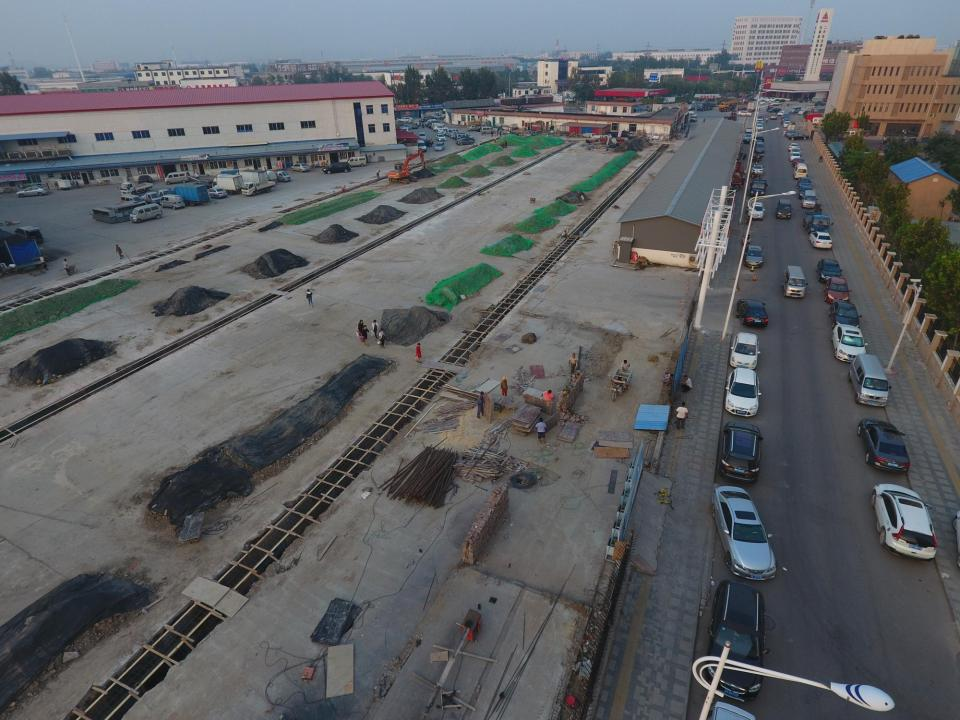car: (705, 580, 772, 701), (711, 486, 777, 581), (870, 483, 938, 564), (856, 418, 910, 476), (716, 420, 764, 485), (725, 367, 762, 417), (830, 323, 869, 364), (729, 332, 760, 370), (828, 300, 863, 330), (736, 298, 768, 328), (823, 276, 852, 304), (816, 258, 843, 284), (808, 231, 833, 249), (15, 186, 48, 198), (322, 161, 352, 174), (747, 201, 765, 221), (202, 187, 228, 199), (796, 185, 813, 201), (192, 179, 216, 189), (742, 134, 765, 144), (797, 177, 812, 191), (137, 175, 153, 185), (290, 164, 310, 172), (788, 133, 809, 140), (751, 164, 765, 174), (455, 138, 474, 145), (792, 157, 805, 167), (738, 109, 752, 118), (790, 151, 801, 162), (788, 142, 800, 152), (434, 142, 445, 152), (790, 146, 801, 156), (434, 133, 446, 142), (468, 124, 480, 132), (767, 106, 782, 112), (785, 129, 795, 138), (798, 109, 810, 116), (419, 131, 426, 142), (755, 123, 764, 131), (744, 126, 753, 134), (777, 110, 788, 116), (783, 120, 791, 128), (738, 105, 748, 111), (815, 100, 825, 106), (770, 112, 777, 120), (756, 114, 764, 121), (744, 133, 752, 140), (686, 105, 695, 111), (756, 118, 763, 125), (782, 118, 790, 124), (782, 114, 788, 121), (782, 112, 788, 118)
truck: (168, 184, 210, 207), (801, 210, 833, 235), (240, 179, 278, 197), (212, 174, 244, 195), (116, 180, 153, 196), (234, 169, 268, 186), (750, 178, 768, 196), (268, 169, 291, 183), (140, 191, 162, 204), (151, 188, 173, 200), (696, 102, 716, 112), (746, 100, 761, 112), (787, 121, 796, 132)
van: (848, 353, 892, 407), (782, 265, 808, 299), (128, 202, 163, 224), (744, 245, 765, 268), (159, 194, 186, 210), (775, 198, 794, 220), (164, 170, 190, 186), (120, 194, 147, 208), (801, 190, 819, 209), (254, 169, 277, 183), (793, 162, 808, 180), (346, 156, 366, 168), (414, 139, 427, 153), (754, 139, 765, 155), (478, 126, 496, 134), (789, 106, 801, 113), (811, 97, 823, 103), (690, 114, 697, 123)
